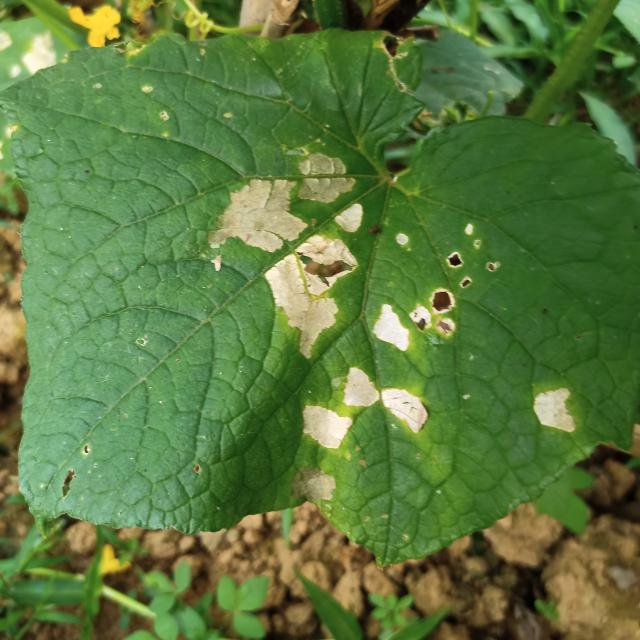disease_cucumber: (206, 143, 363, 364), (369, 217, 499, 358), (289, 362, 436, 453), (526, 382, 585, 441)
